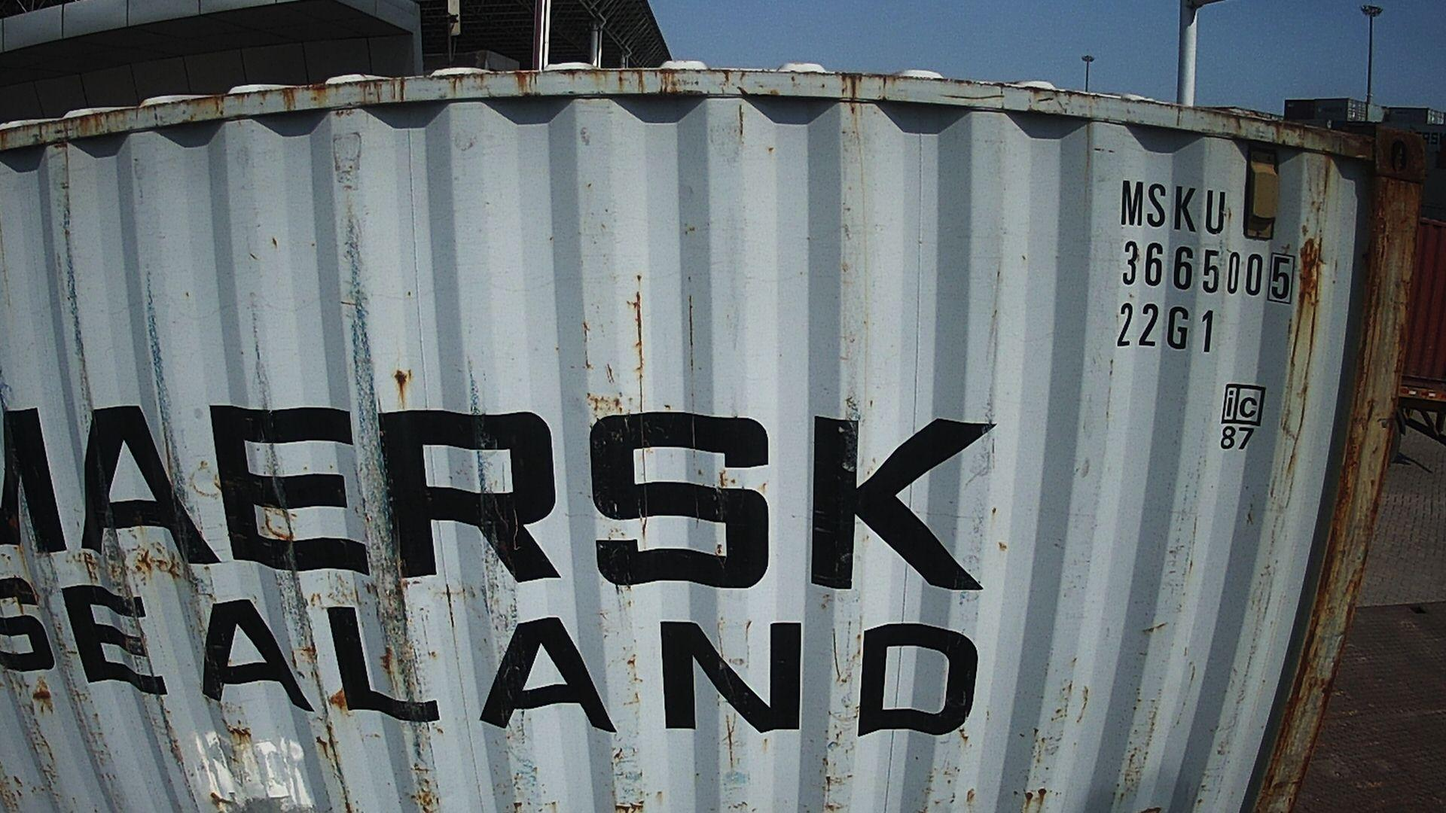container-numbers: (1117, 238, 1298, 305), (1116, 178, 1232, 239), (1112, 300, 1220, 355)
